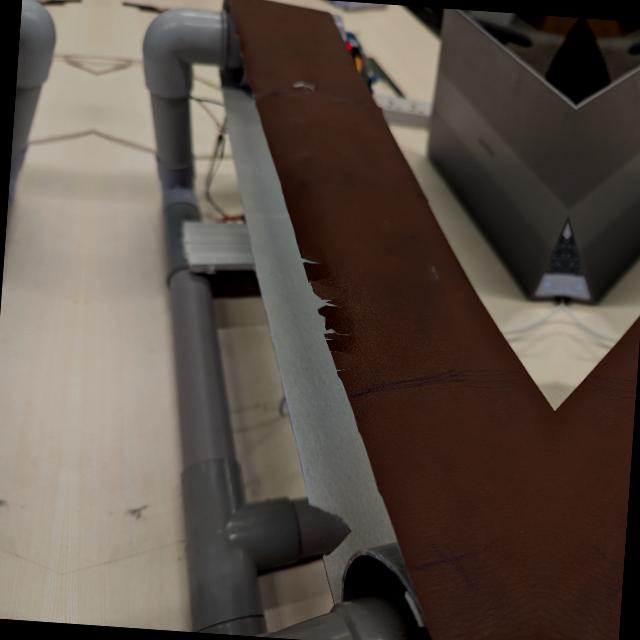edge_damage: (268, 248, 367, 383)
joint_damage: (275, 72, 330, 95)
